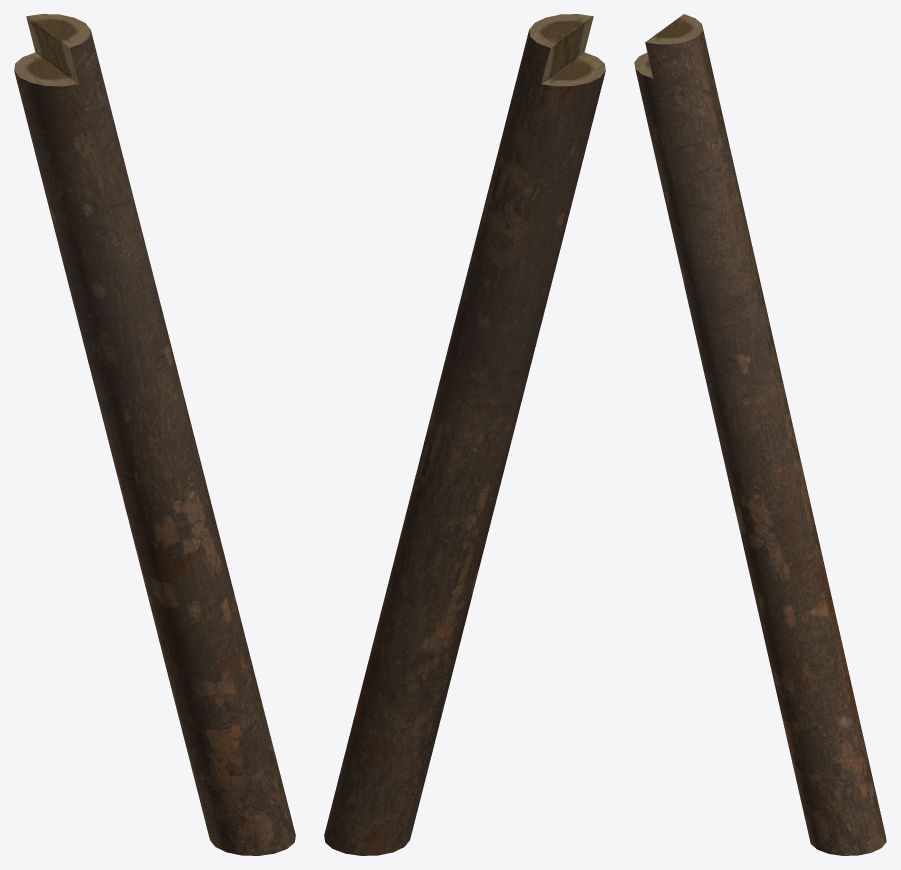
File: piece.obj
The picture shows the model from 3 angles, left to right: view 1: azimuth 30°, elevation 25°; view 2: azimuth 150°, elevation 25°; view 3: azimuth 330°, elevation 25°; orthographic projection. The views are drawn at different scales.
Visible parts, largest first — view 1: ThreeSupportBD; view 2: ThreeSupportBD; view 3: ThreeSupportBD.
Boxes of the visible parts, x1,y1,x2,y2 form: ThreeSupportBD: (14,14,295,855); ThreeSupportBD: (324,14,605,855); ThreeSupportBD: (634,14,886,855).
Bounding box in the file's own units: 0.7222 × 2.18 × 0.2.
Materials: 1 (1 with a texture image).
